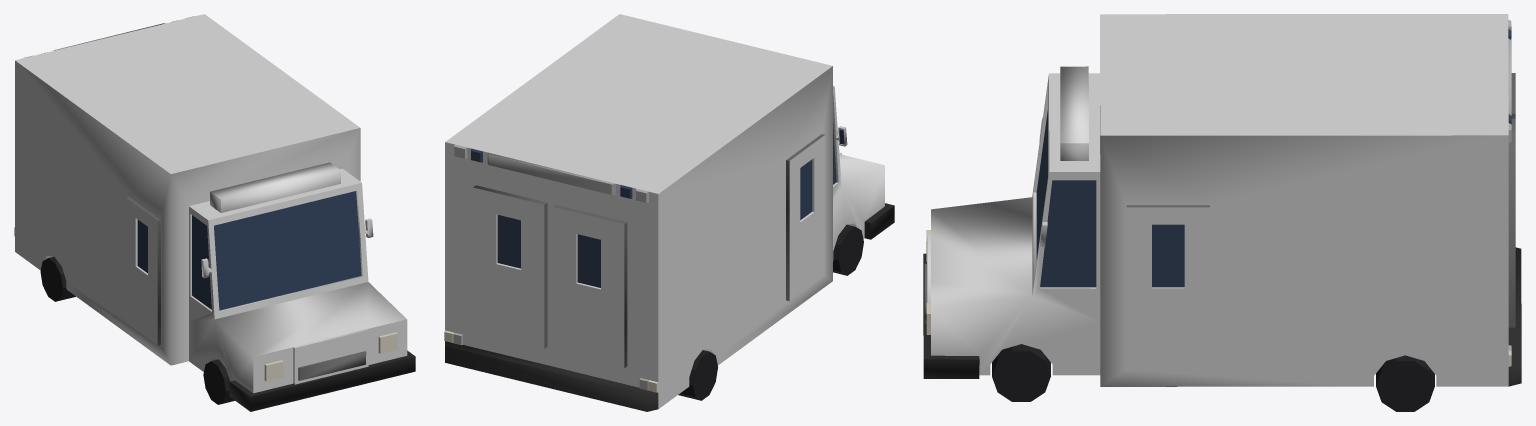
File: ambulance-lo.glb
The picture shows the model from 3 angles, left to right: view 1: azimuth 30°, elevation 25°; view 2: azimuth 150°, elevation 25°; view 3: azimuth 270°, elevation 25°; orthographic projection. The views are drawn at different scales.
Parts seen in each view (by area): view 1: paint, glass, trim, tyre, light; view 2: paint, trim, glass, tyre; view 3: paint, glass, tyre, trim.
Part boxes in pixels (box(x1,y1,x2,y2)): paint: box(15, 14, 407, 393); glass: box(44, 20, 361, 310); trim: box(126, 197, 415, 411); tyre: box(40, 256, 234, 404); light: box(14, 227, 397, 381); paint: box(445, 14, 884, 408); trim: box(445, 134, 894, 411); glass: box(471, 123, 844, 287); tyre: box(678, 224, 863, 400); paint: box(927, 14, 1511, 386); glass: box(1036, 29, 1511, 287); tyre: box(992, 344, 1434, 411); trim: box(923, 73, 1521, 386).
Size of the model in its own units: 2.98 by 3.04 by 6.
